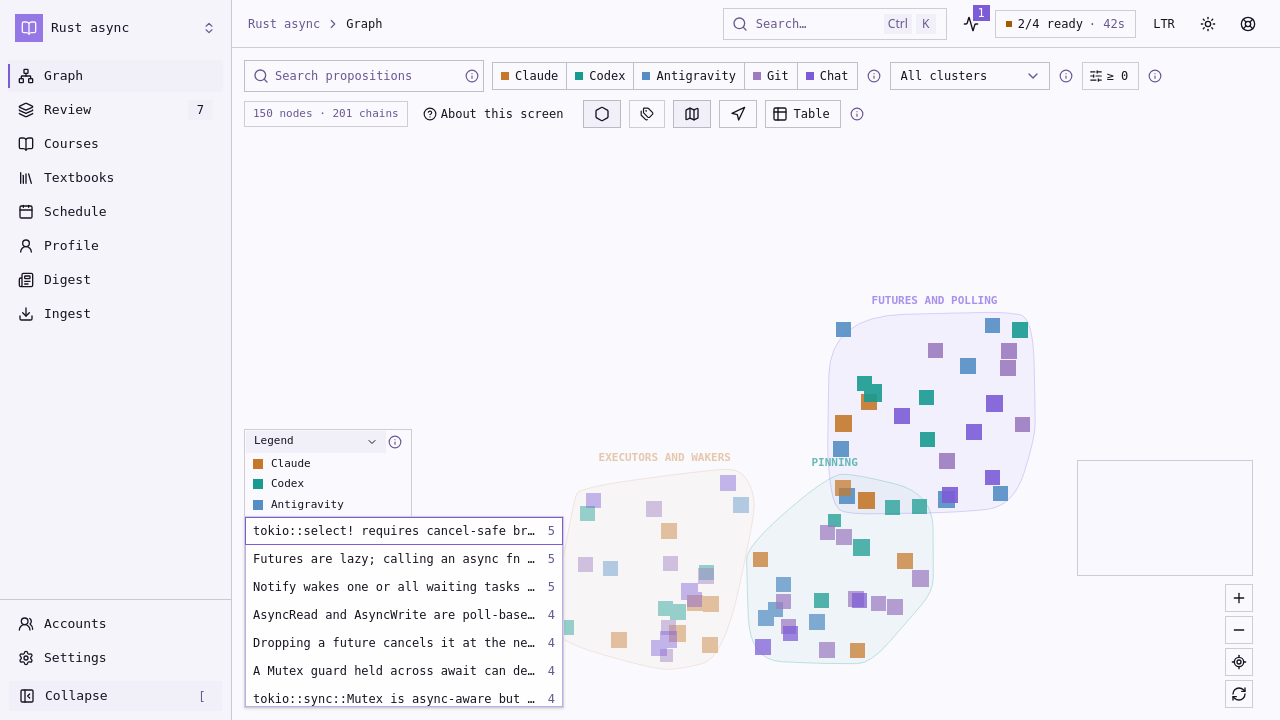
graph screen › Enter on the list opens the drawer with provenance, and the close button dismisses it
Expected: the element with test id "graph-toolbar" is shown, top-left (244, 60), bottom-right (1253, 128)
Press Enter
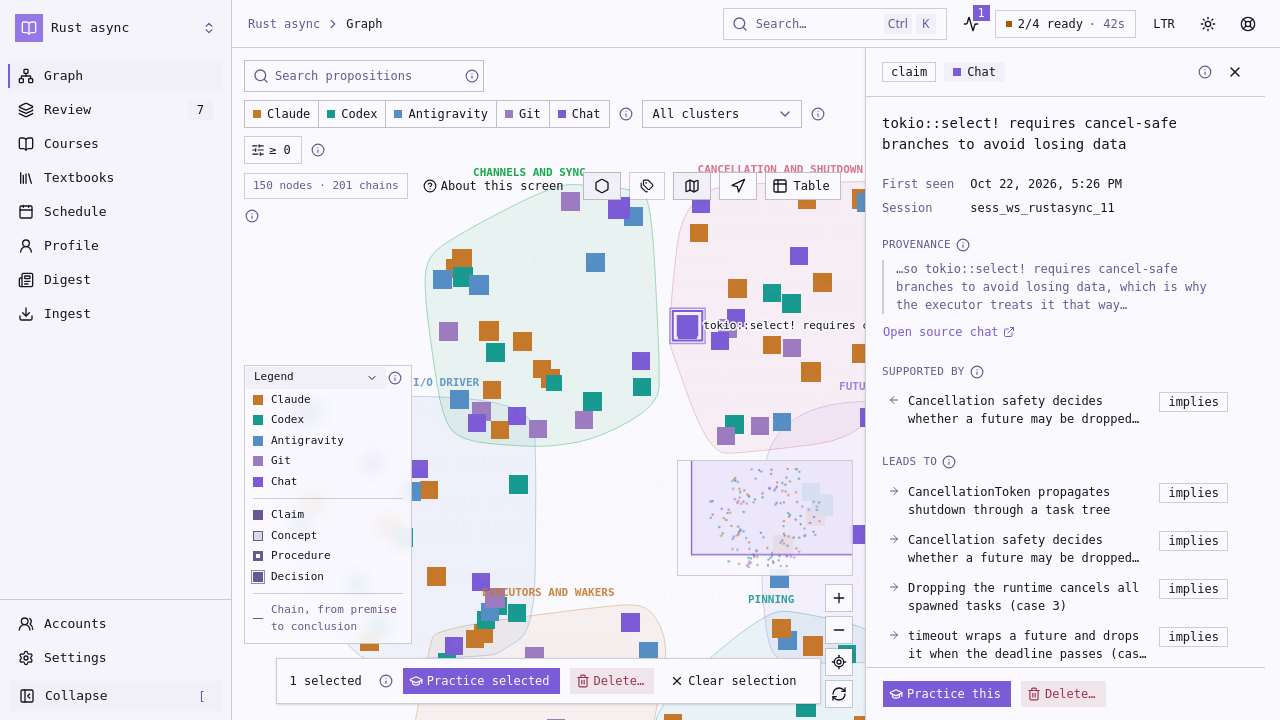
Expected: the heading with test id "graph-drawer-text" reads "tokio::select! requires cancel-safe branches to avoid losing data", top-left (882, 115), bottom-right (1177, 152)
Expected: the element with test id "graph-drawer-source" is shown, top-left (944, 62), bottom-right (1005, 82)
Click the button with test id "graph-drawer-close". click: coordinates (1235, 72)
box: top-left (1221, 58), bottom-right (1249, 86)
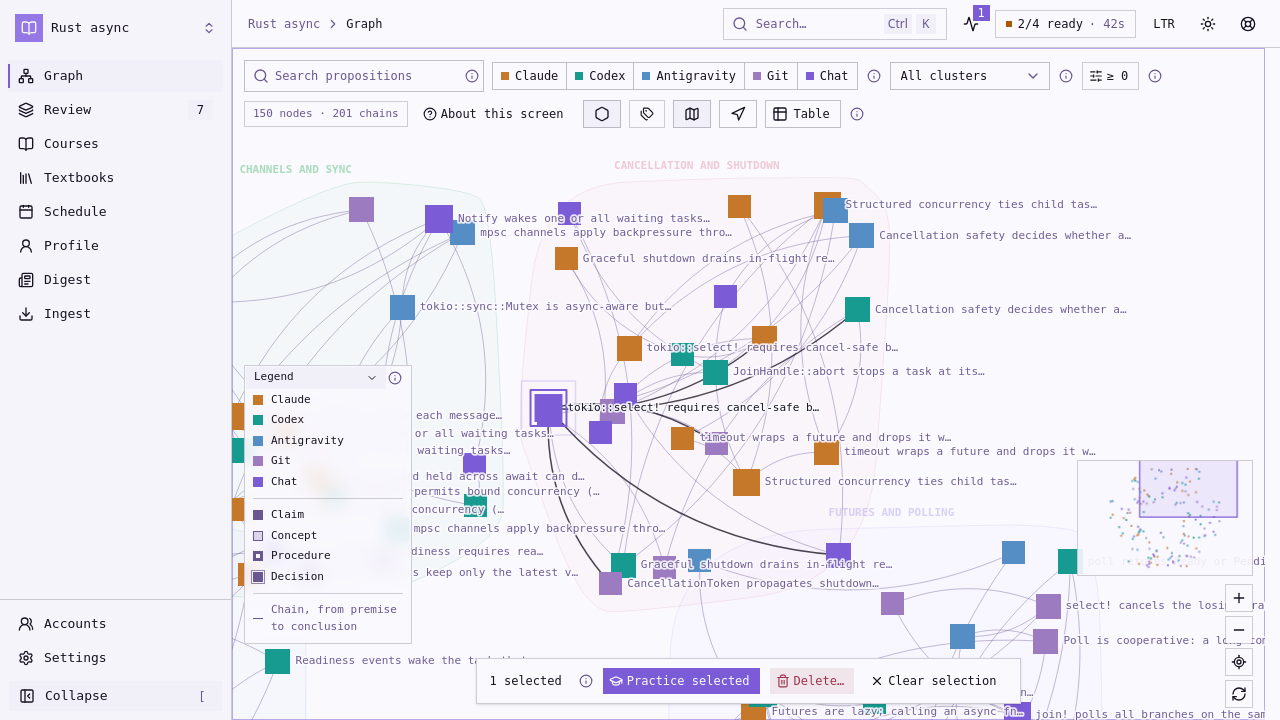
Expected: the element with test id "graph-drawer" is gone
